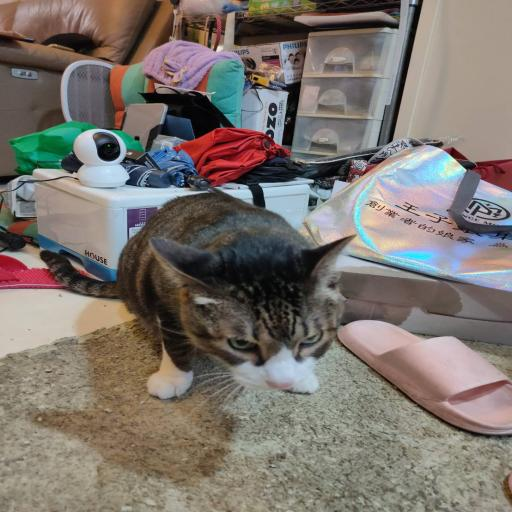cat: (74, 190, 351, 420)
